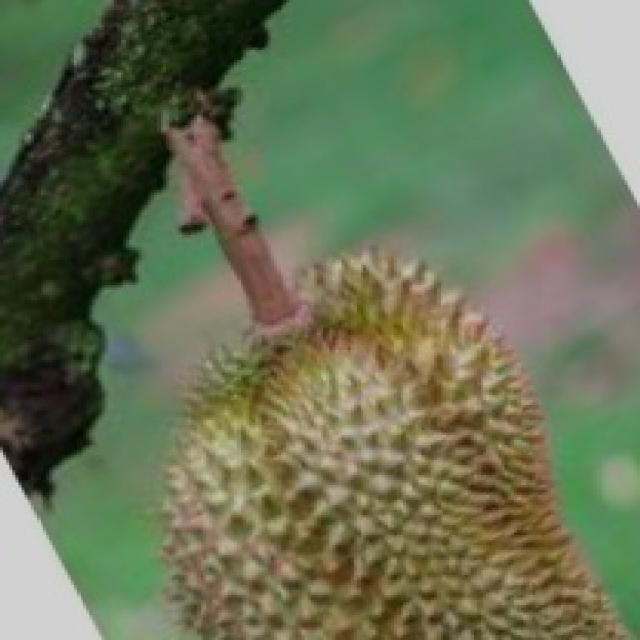fruit: (311, 265, 631, 640), (89, 280, 422, 640)
